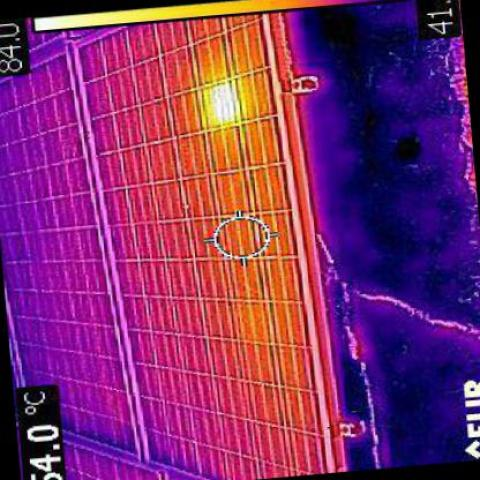fault: (207, 86, 242, 118)
